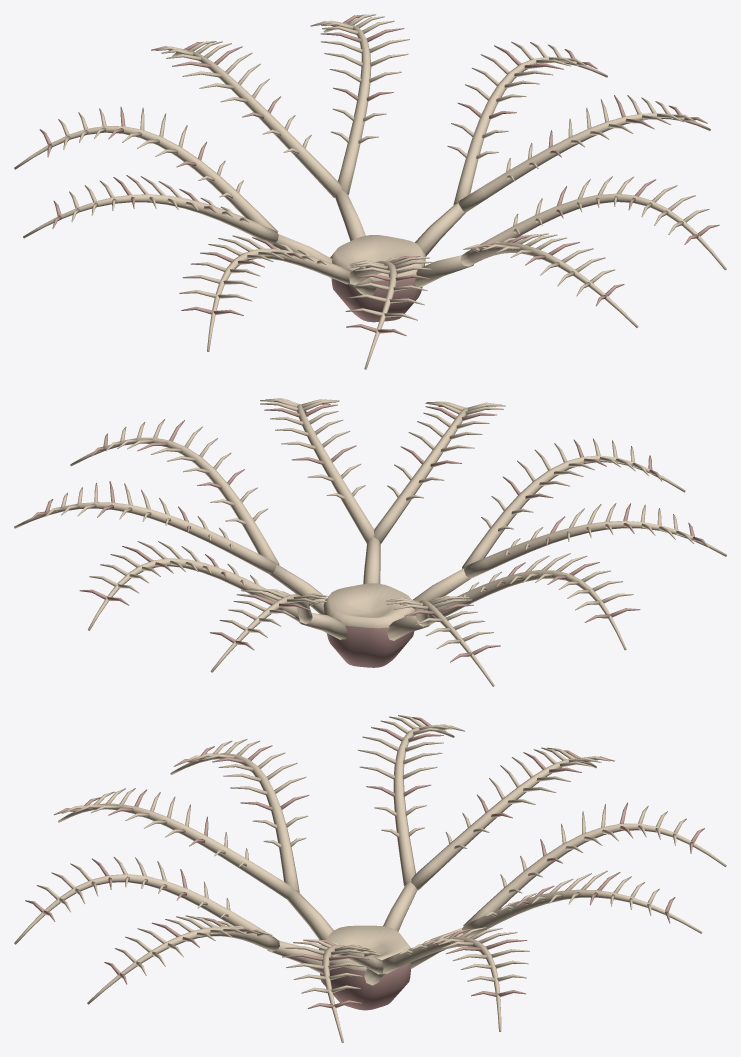
The model's file is saccocoma.glb.
The picture shows the model from 3 angles, top to bottom: view 1: azimuth 30°, elevation 25°; view 2: azimuth 150°, elevation 25°; view 3: azimuth 270°, elevation 25°; orthographic projection. The views are drawn at different scales.
Visible parts, largest first — view 1: five-bifurcating-branching-arms, fine-featherlike-lateral-branches, small-stemless-scalloped-cup; view 2: five-bifurcating-branching-arms, fine-featherlike-lateral-branches, small-stemless-scalloped-cup; view 3: five-bifurcating-branching-arms, fine-featherlike-lateral-branches, small-stemless-scalloped-cup.
Boxes of the visible parts, x1,y1,x2,y2 form: five-bifurcating-branching-arms: [14, 23, 726, 369]; fine-featherlike-lateral-branches: [39, 14, 719, 335]; small-stemless-scalloped-cup: [330, 235, 425, 322]; five-bifurcating-branching-arms: [14, 404, 726, 686]; fine-featherlike-lateral-branches: [29, 398, 709, 662]; small-stemless-scalloped-cup: [323, 583, 415, 667]; five-bifurcating-branching-arms: [14, 726, 726, 1042]; fine-featherlike-lateral-branches: [25, 715, 704, 1008]; small-stemless-scalloped-cup: [319, 925, 410, 1010].
Bounding box in the file's own units: 0.05 × 0.0128 × 0.05.
